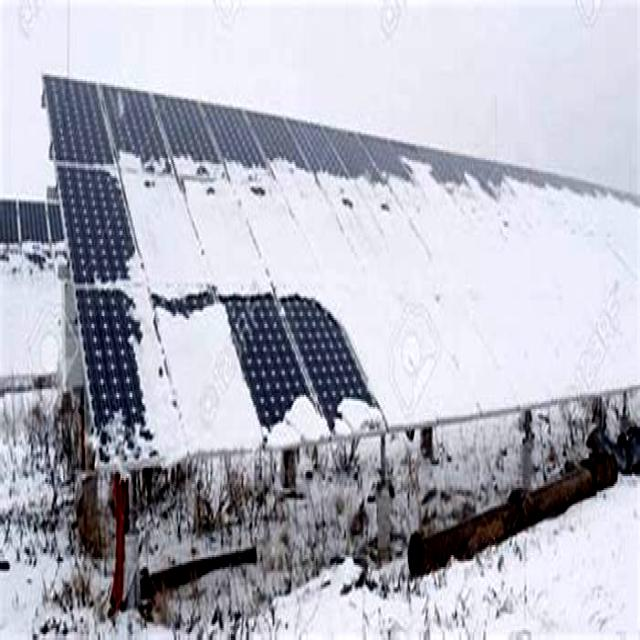panel: (217, 150, 373, 297), (126, 302, 260, 455), (102, 160, 208, 294), (368, 310, 493, 416), (379, 161, 472, 298), (481, 168, 570, 307), (580, 184, 640, 384), (502, 315, 575, 395), (266, 374, 326, 452), (333, 385, 380, 438)
